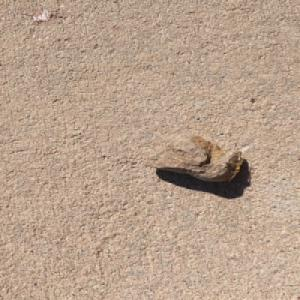Rock: (141, 133, 244, 183)
